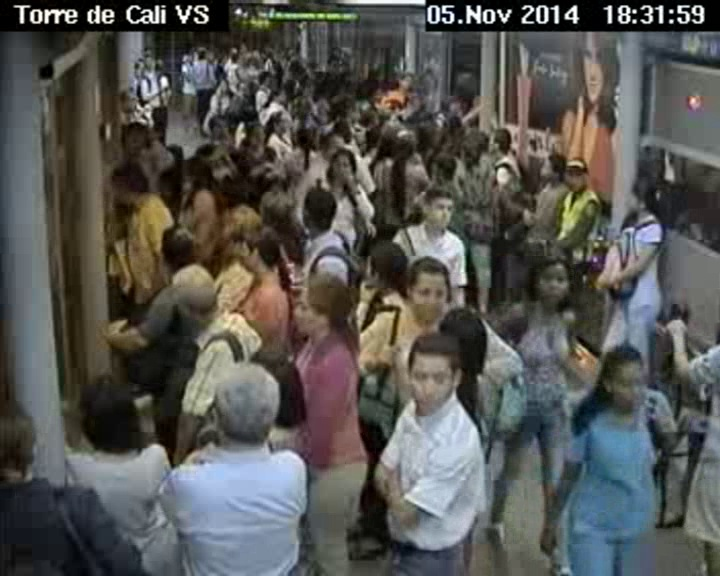person: (200, 353, 288, 458), (68, 361, 143, 451), (395, 324, 461, 419), (590, 336, 655, 419), (1, 401, 57, 491), (288, 270, 365, 332), (432, 306, 494, 379), (398, 246, 449, 324), (358, 229, 409, 301), (167, 262, 222, 325), (521, 246, 576, 308), (106, 161, 156, 222), (153, 219, 202, 270), (236, 224, 279, 281), (253, 179, 303, 224), (296, 181, 336, 236), (625, 173, 668, 221), (419, 184, 454, 239), (175, 155, 219, 193), (326, 143, 360, 192), (535, 151, 572, 189), (292, 117, 324, 157), (121, 119, 149, 157), (565, 156, 592, 194), (384, 126, 414, 160), (457, 136, 484, 169), (487, 122, 512, 156), (243, 120, 268, 153), (115, 83, 140, 116), (208, 112, 235, 140), (267, 108, 289, 141), (270, 84, 288, 107), (257, 71, 275, 91), (138, 54, 155, 74), (215, 76, 228, 92)
